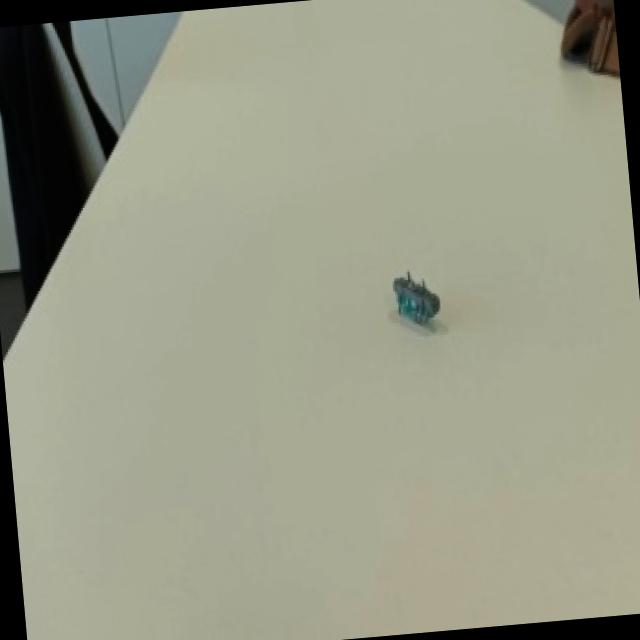5_NanoBug_GrisClaro: (370, 240, 460, 345)
